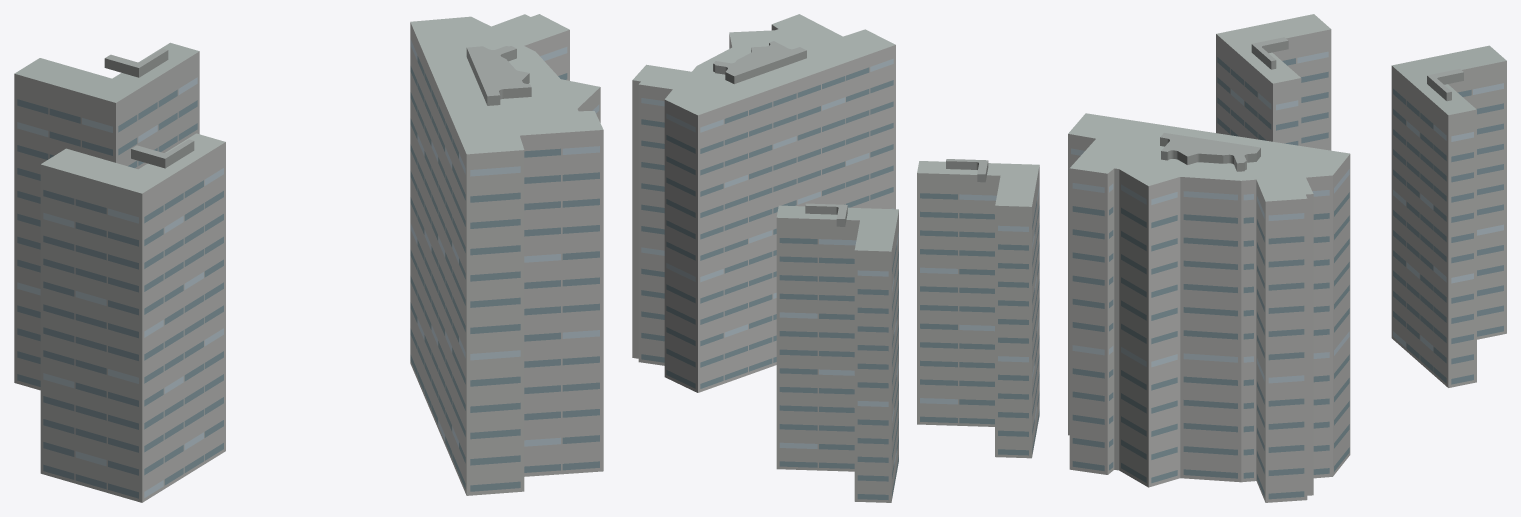
Rendered from apt-a10024132.glb.
3 renders of one model, left to right at view 1: azimuth 30°, elevation 25°; view 2: azimuth 150°, elevation 25°; view 3: azimuth 270°, elevation 25°, orthographic. The views are drawn at different scales.
Visible parts, largest first — view 1: apt-a10024132; view 2: apt-a10024132; view 3: apt-a10024132.
Boxes of the visible parts, left/top/right/bottom form: apt-a10024132: left=14, top=14, right=603, bottom=502; apt-a10024132: left=632, top=14, right=1039, bottom=502; apt-a10024132: left=1068, top=14, right=1506, bottom=502.
Size of the model in its own units: 130 by 87 by 112.
